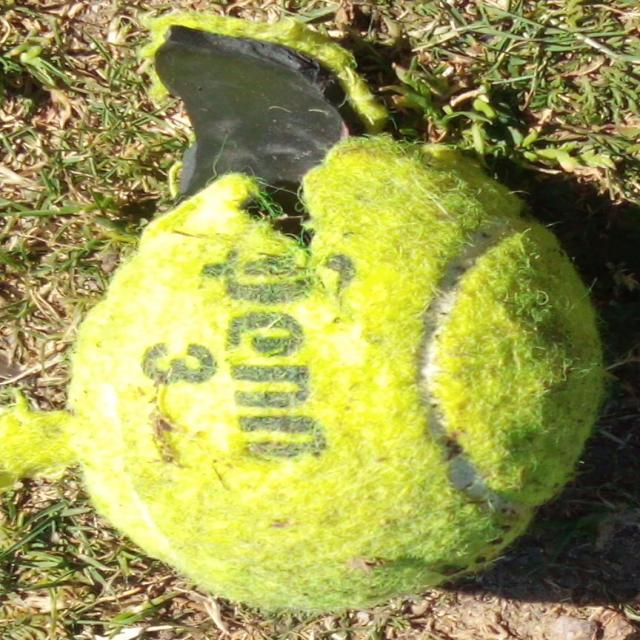litter: (71, 11, 601, 611)
